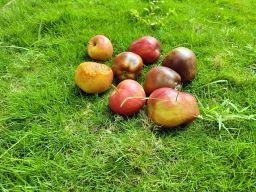apple: (140, 82, 202, 132), (158, 40, 206, 81), (141, 63, 189, 101), (105, 77, 152, 115), (70, 60, 116, 96), (122, 28, 166, 65), (110, 43, 145, 87), (85, 30, 118, 60)
